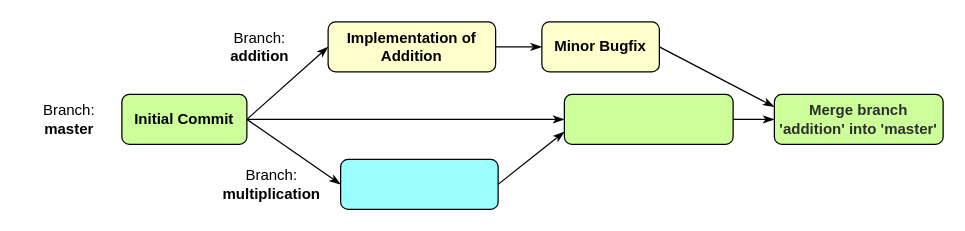
This 965x231 diagram has some shape labels left out. Each missing label, with the box of its shape:
Implementation of Multiplication: (339, 158, 498, 209)
Merge branch 'division' into 'master': (563, 93, 733, 144)
